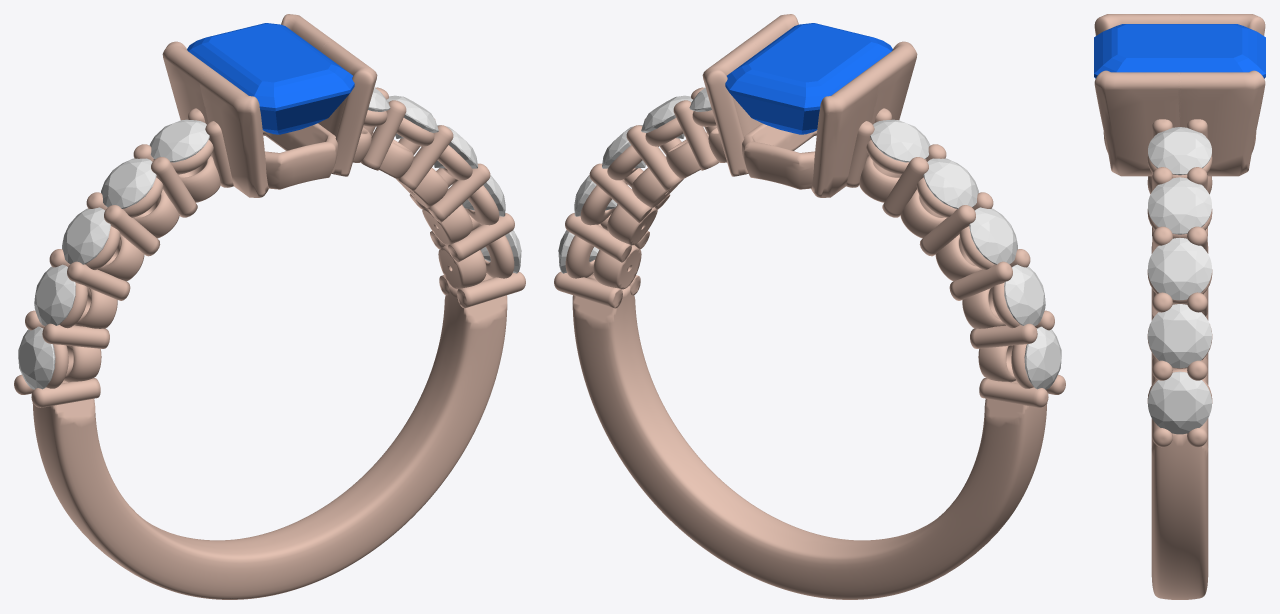
Rendered from bluesapphire-emerald-rosegold-halfmoonbezel-straightband-11stone.glb.
3 views of the same model, side by side, from view 1: azimuth 30°, elevation 25°; view 2: azimuth 150°, elevation 25°; view 3: azimuth 270°, elevation 25° (orthographic).
Parts seen in each view (by area): view 1: metal.003, stone.002, side.024, side.025, side.023, side.026, side.002, side.028; view 2: metal.003, stone.002, side.024, side.025, side.023, side.026, side.002, side.028; view 3: metal.003, stone.002, side.030, side.031, side.029, side.028, side.027.
Boxes of the visible parts, <box> form: metal.003: <box>14,14,525,599</box>; stone.002: <box>187,23,354,134</box>; side.024: <box>62,207,110,264</box>; side.025: <box>101,158,156,208</box>; side.023: <box>34,264,75,325</box>; side.026: <box>149,119,209,162</box>; side.002: <box>18,326,55,389</box>; side.028: <box>387,95,438,138</box>; metal.003: <box>554,14,1065,599</box>; stone.002: <box>725,23,892,134</box>; side.024: <box>969,207,1017,264</box>; side.025: <box>923,158,978,208</box>; side.023: <box>1004,264,1045,325</box>; side.026: <box>870,119,930,162</box>; side.002: <box>1024,326,1061,389</box>; side.028: <box>641,95,692,138</box>; metal.003: <box>1094,14,1265,599</box>; stone.002: <box>1094,24,1265,78</box>; side.030: <box>1148,304,1211,368</box>; side.031: <box>1148,371,1211,434</box>; side.029: <box>1148,238,1211,300</box>; side.028: <box>1148,177,1211,234</box>; side.027: <box>1148,127,1211,175</box>.
Bounding box in the file's own units: 22.03 × 22.95 × 6.69.
